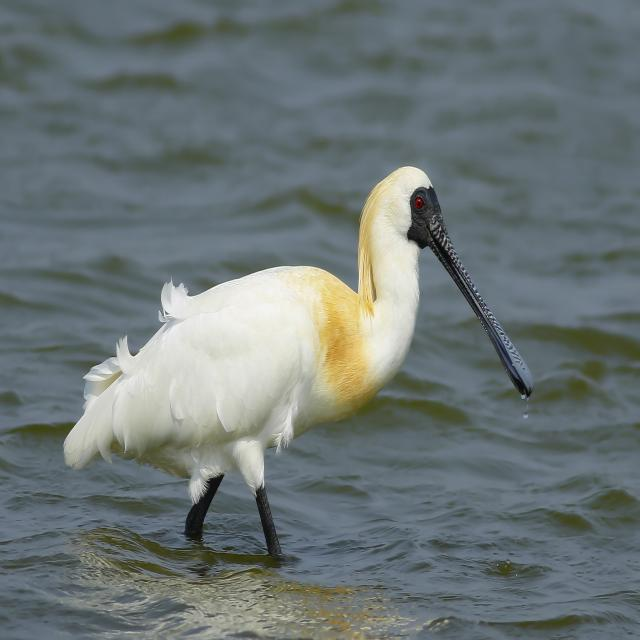Black-faced spoonbill: (65, 167, 532, 556)
